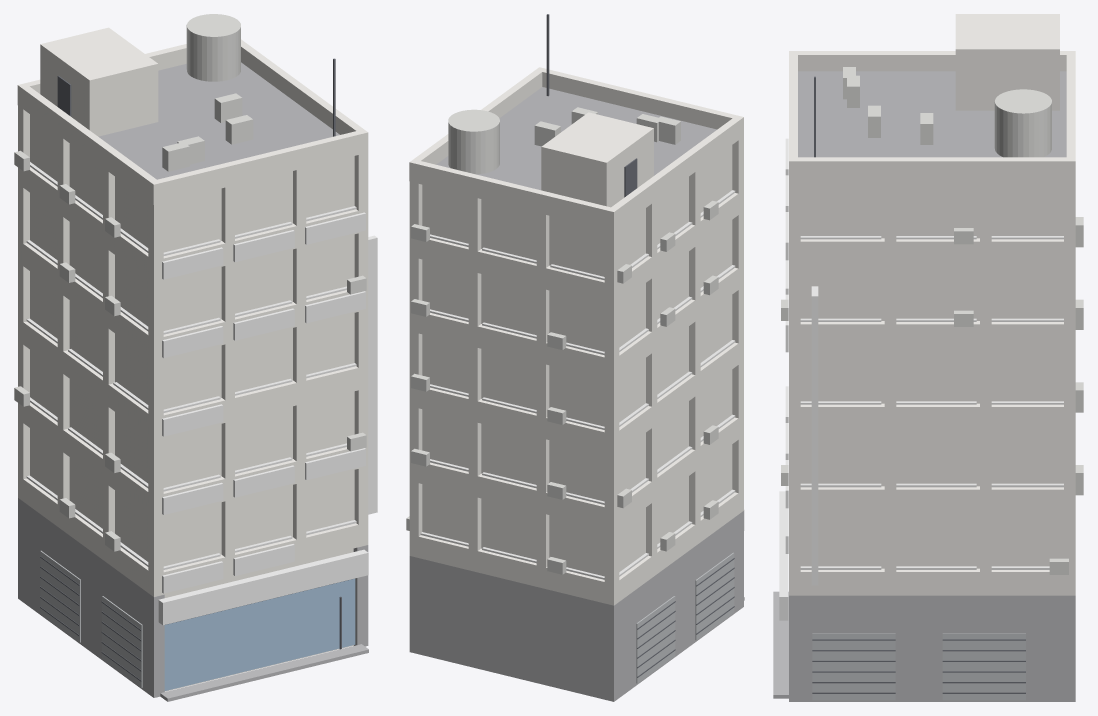
File: bldg_7.glb
3 renders of one model, left to right at view 1: azimuth 30°, elevation 25°; view 2: azimuth 150°, elevation 25°; view 3: azimuth 270°, elevation 25°, orthographic. The views are drawn at different scales.
Parts seen in each view (by area): view 1: building; view 2: building; view 3: building.
Boxes of the visible parts, x1=… form: building: x1=14, y1=14, x2=377, y2=701; building: x1=406, y1=14, x2=744, y2=701; building: x1=773, y1=14, x2=1083, y2=701.
Bounding box in the file's own units: 11.26 × 26 × 11.91.
